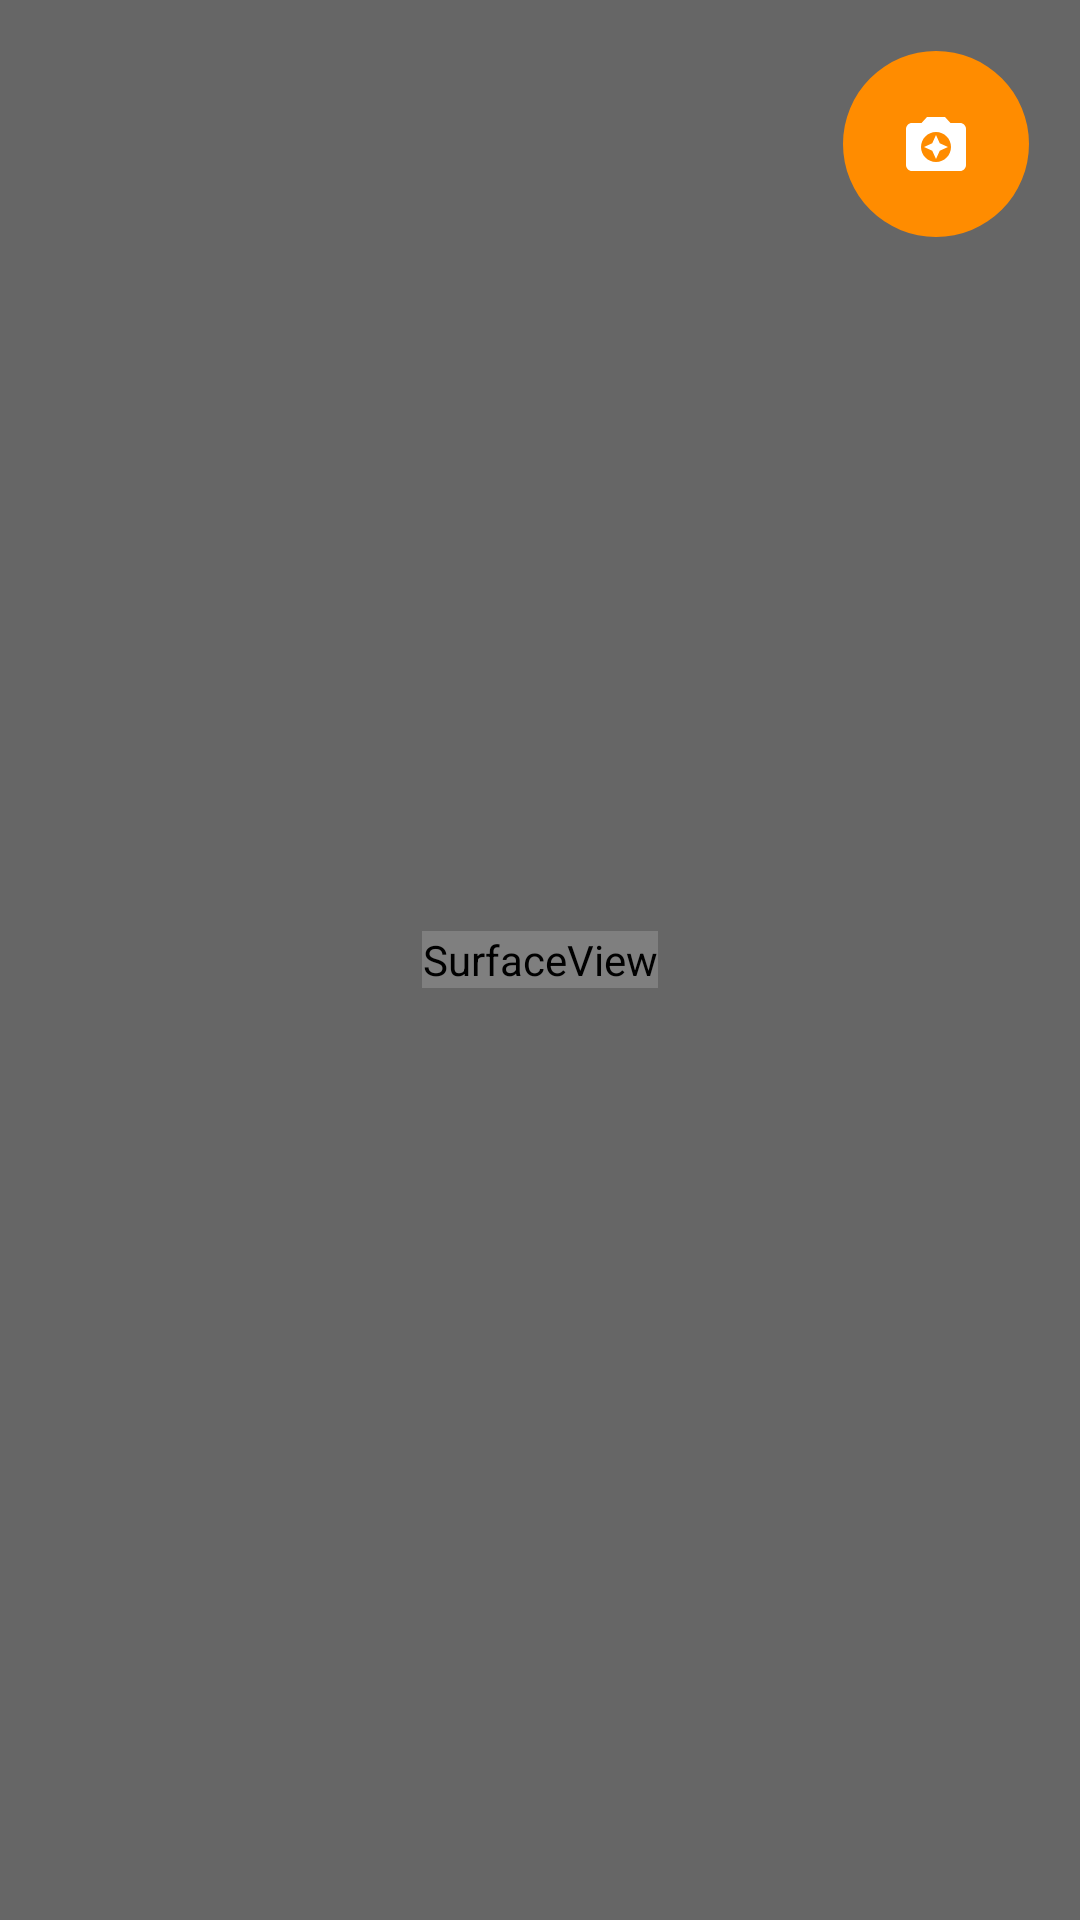

Where to tap for icons on this 1080 × 1920 app screen, as point (x, y):
camera: point (936, 144)
